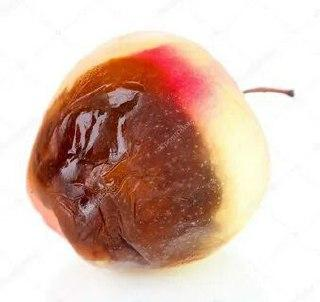Apple: (26, 28, 270, 271)
